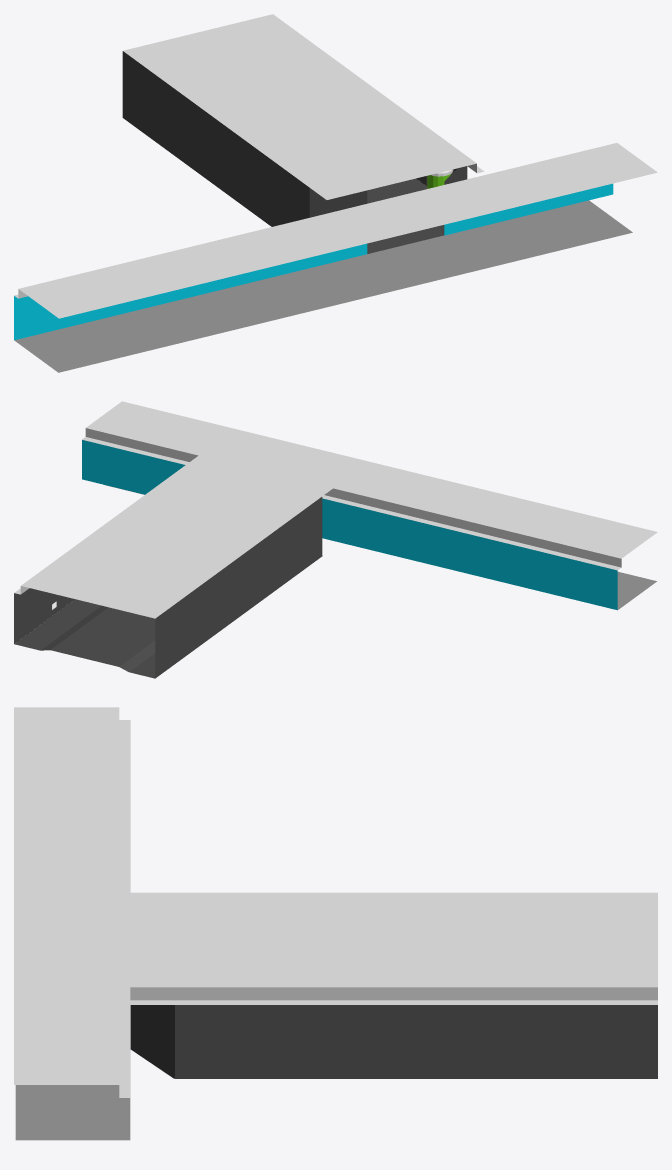
The model's file is corredor2 (2).fbx.
3 renders of one model, top to bottom at view 1: azimuth 30°, elevation 25°; view 2: azimuth 150°, elevation 25°; view 3: azimuth 270°, elevation 25°, orthographic. The views are drawn at different scales.
Parts seen in each view (by area): view 1: TetoComeco, Chao.001, TetoComeco.001, paredes, paredes.001, Chao; view 2: TetoComeco, TetoComeco.001, paredes, Chao.001, paredes.001, Chao; view 3: TetoComeco, TetoComeco.001, paredes, Chao.001.
Part boxes in pixels (x1,y1,x2,y2): TetoComeco: (123,14,484,199); Chao.001: (14,183,632,372); TetoComeco.001: (14,143,657,318); paredes: (122,51,467,226); paredes.001: (14,279,222,340); Chao: (367,169,453,253); TetoComeco: (14,452,337,618); TetoComeco.001: (82,401,657,570); paredes: (14,497,322,678); Chao.001: (82,440,656,609); paredes.001: (431,525,617,610); Chao: (14,599,155,678); TetoComeco: (130,892,657,1004); TetoComeco.001: (14,707,130,1097); paredes: (130,1005,657,1078); Chao.001: (15,1085,130,1140).
Bounding box in the file's own units: 1952 × 209 × 1406.
